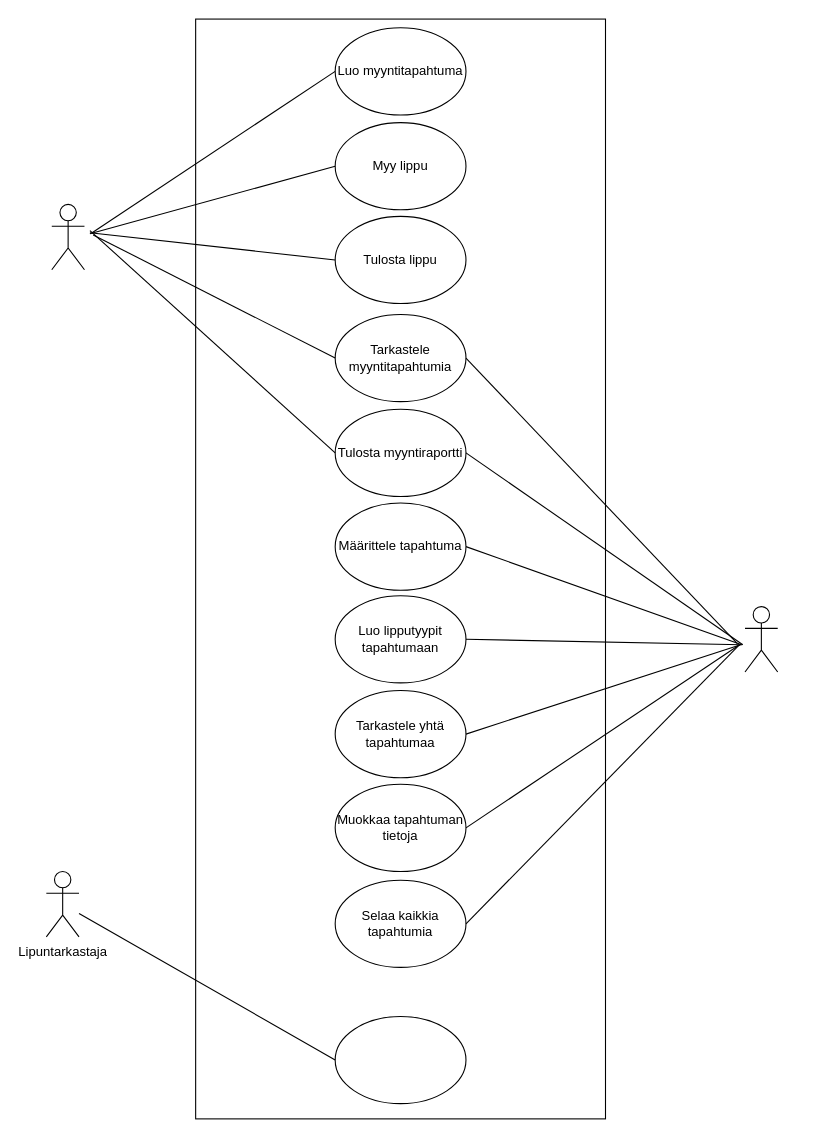
This 826x1138 diagram has some shape labels left out. Here are the shapes that lost their labels. From the top down, the centre of each, then its label:
At [67,236]: "Lipunmyyjä".
At [761,638]: "Palveluntarjoaja".
At [400,1059]: "Tarkasta lippu".
